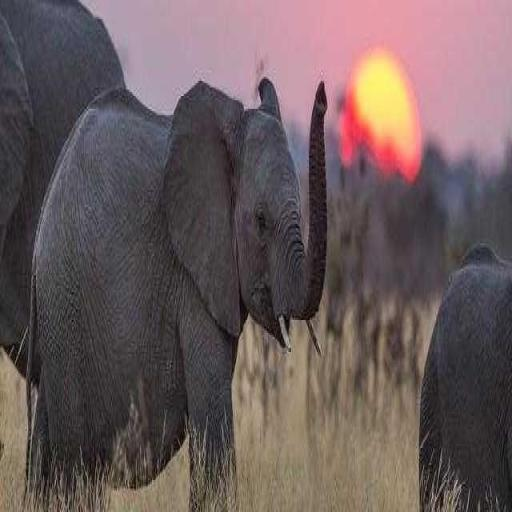Elephant: (23, 72, 328, 510), (418, 239, 511, 510)
